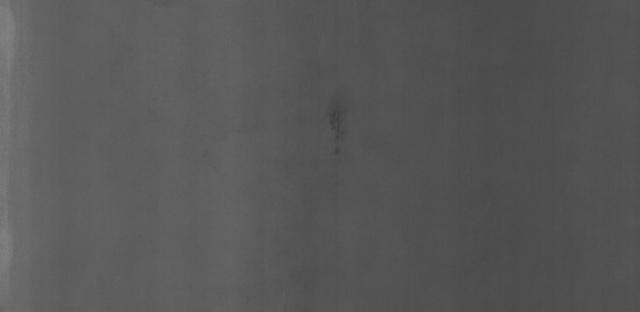water_spot: (318, 99, 362, 162)
